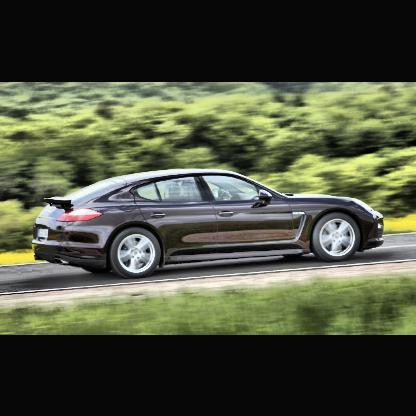Porsche Panamera Sedan 2012: (33, 169, 385, 281)
